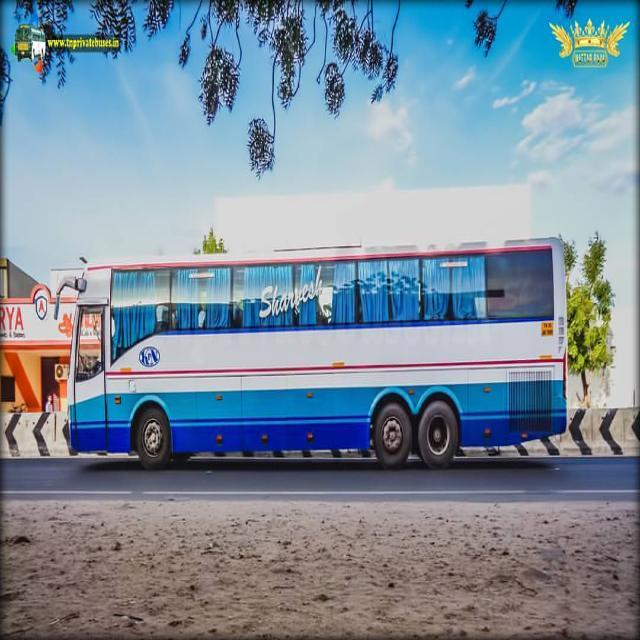Bus: (54, 232, 569, 474)
